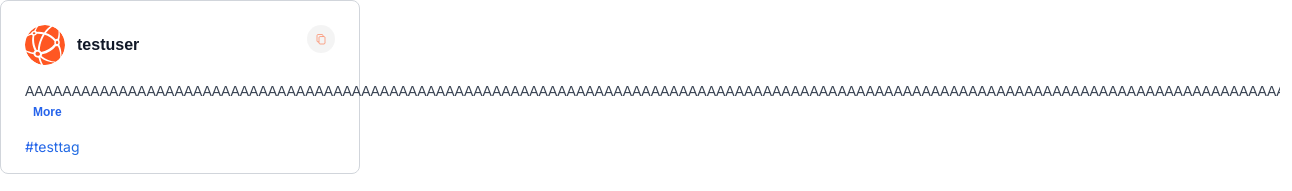
PromptCard Component › fetches complete prompt and expands on More click
The width and height of the screenshot is (1292, 191).
Click the button "More" at (47,112), box x1=33 y1=104 x2=62 y2=120
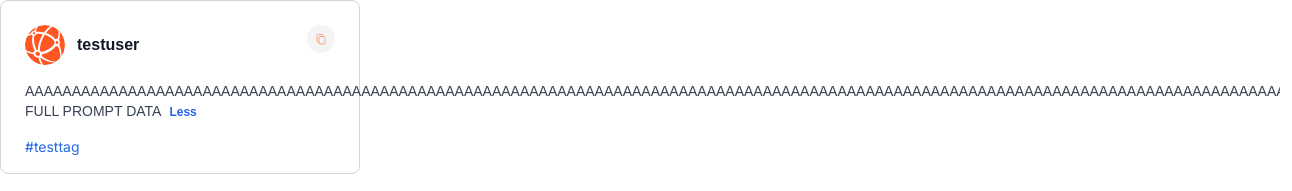
Check: the button "Less" is shown, box x1=169 y1=104 x2=197 y2=120
